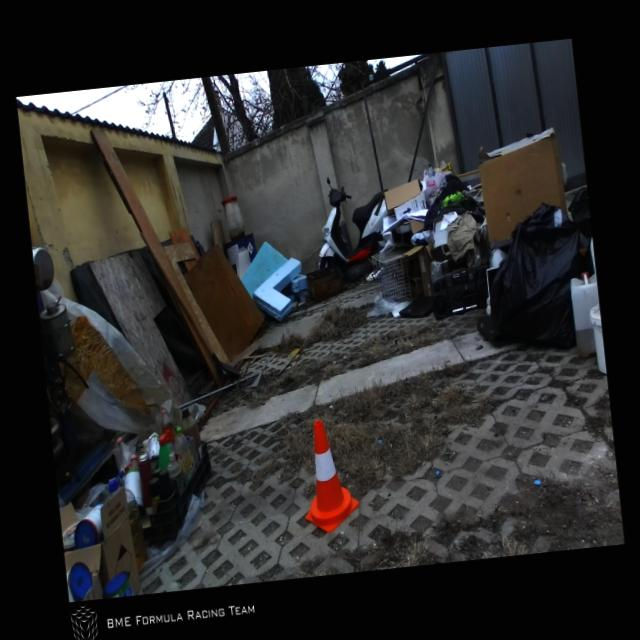large_orange_cone: (294, 417, 362, 535)
